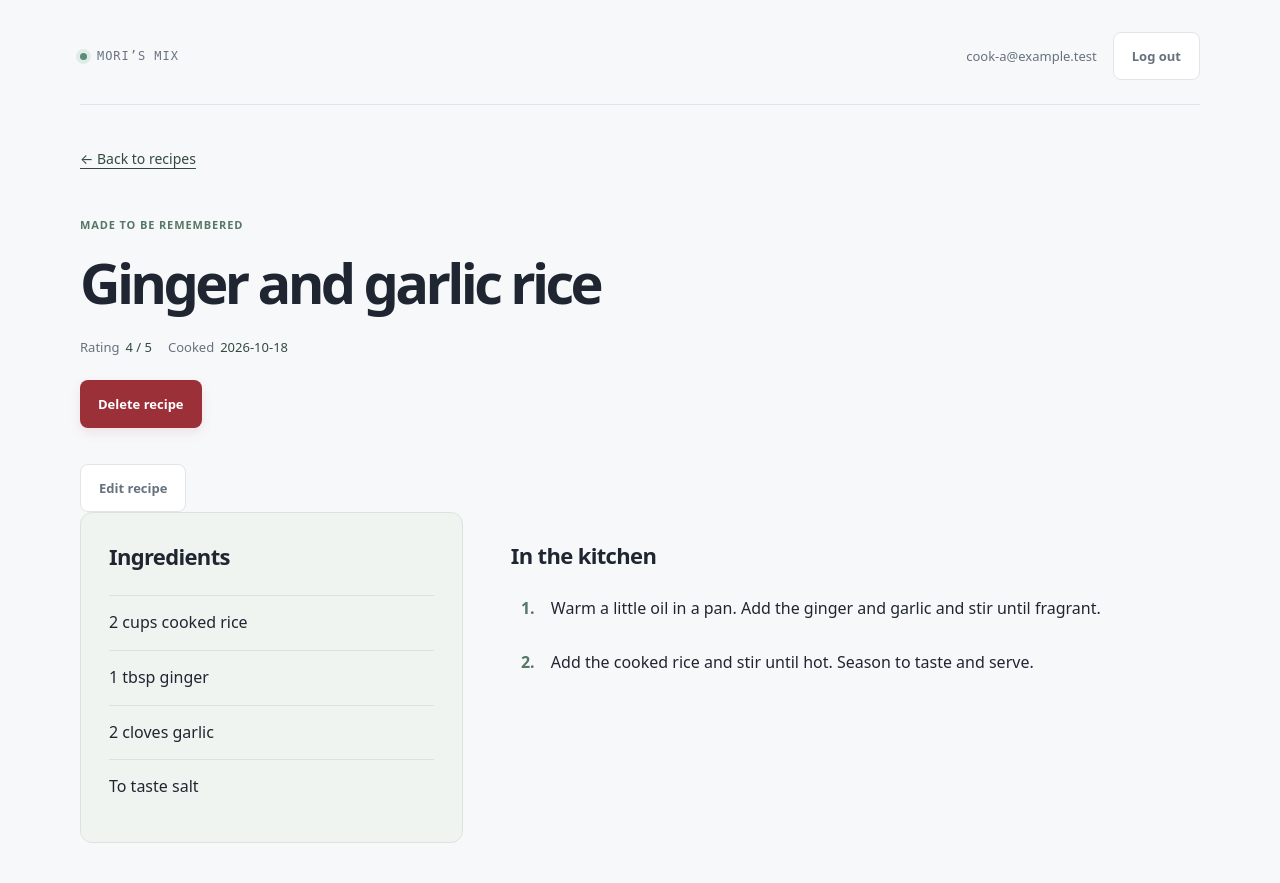
Test case: cancels without deleting and returns focus to the Delete action
Expected: the heading "Ginger and garlic rice" is shown, [80, 244, 600, 320]
Click the button "Delete recipe" at coordinates (141, 404), box [80, 380, 202, 428]
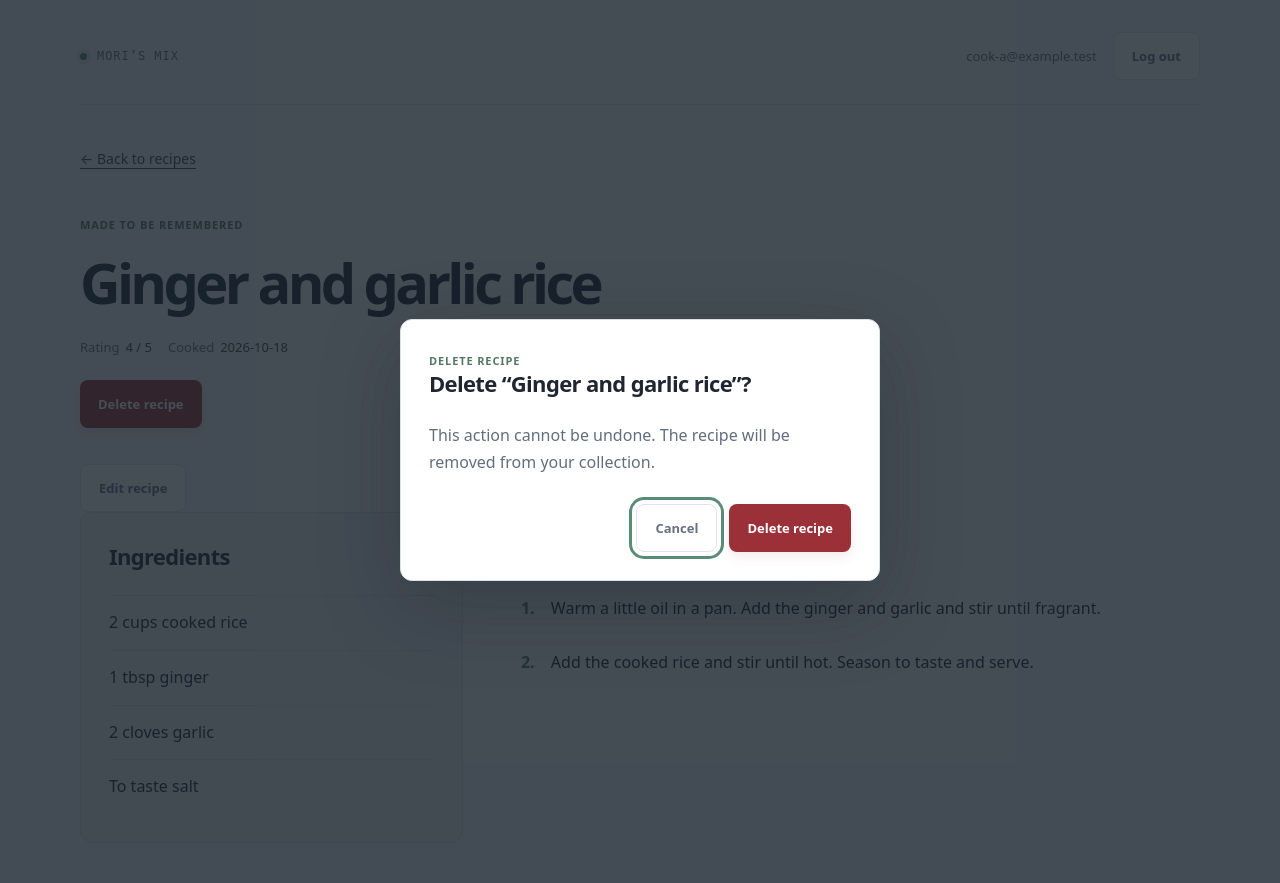
Click the button "Cancel" at coordinates (677, 528), box [636, 504, 717, 552]
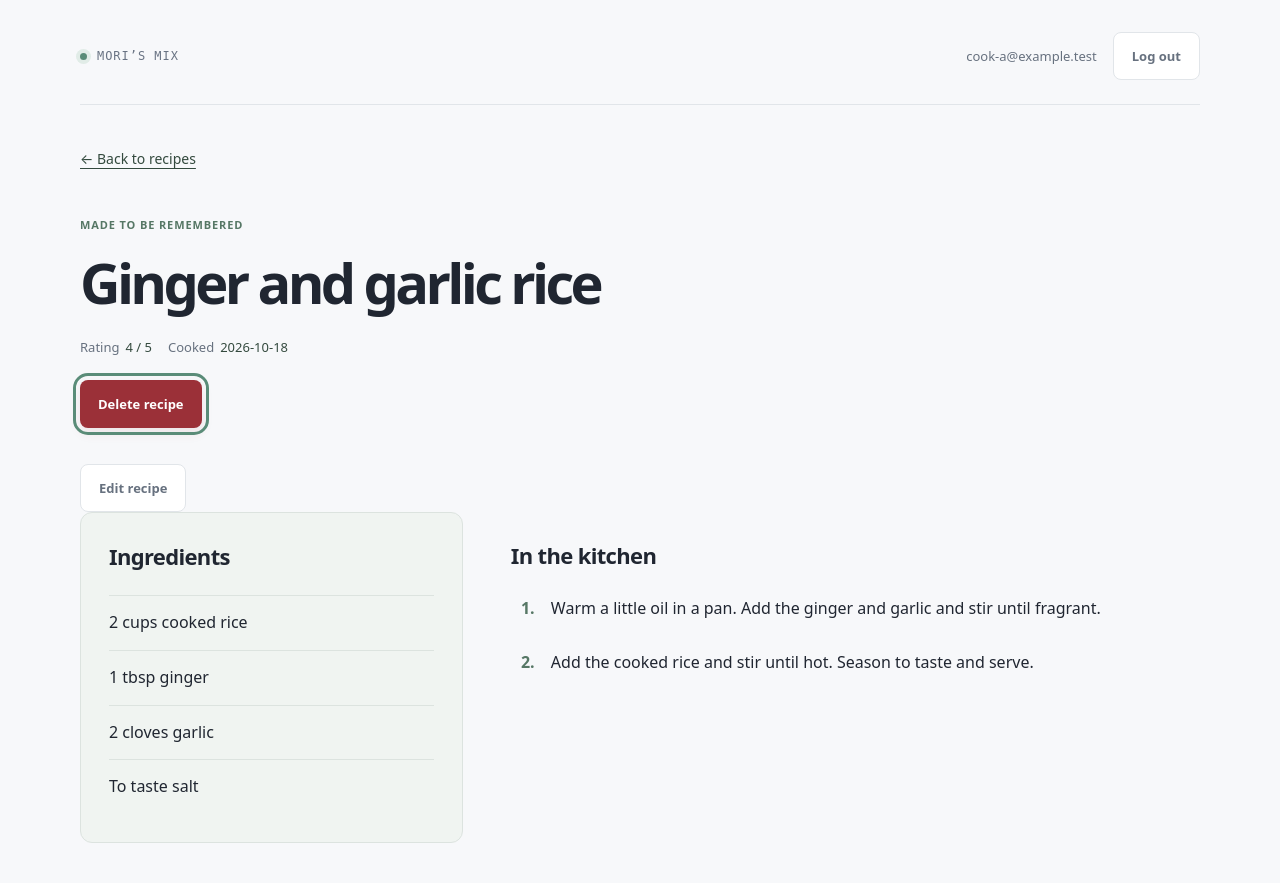
Expected: the dialog is gone
